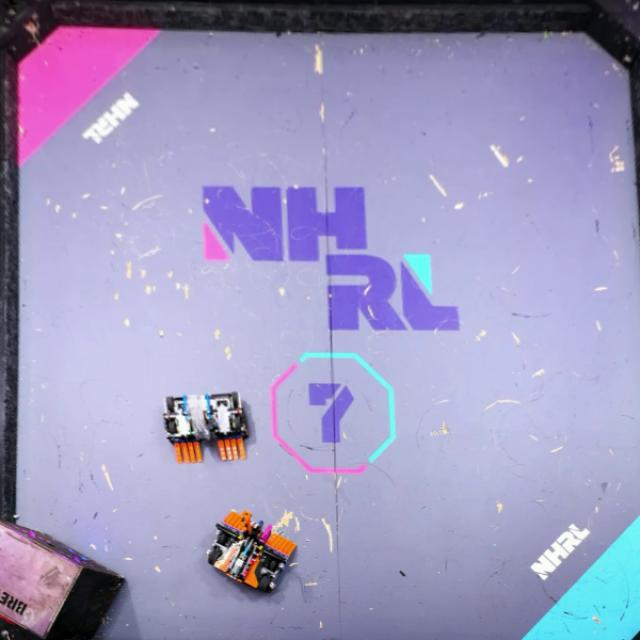housebot: (0, 518, 124, 640)
robot: (208, 508, 298, 594), (164, 390, 248, 464)
